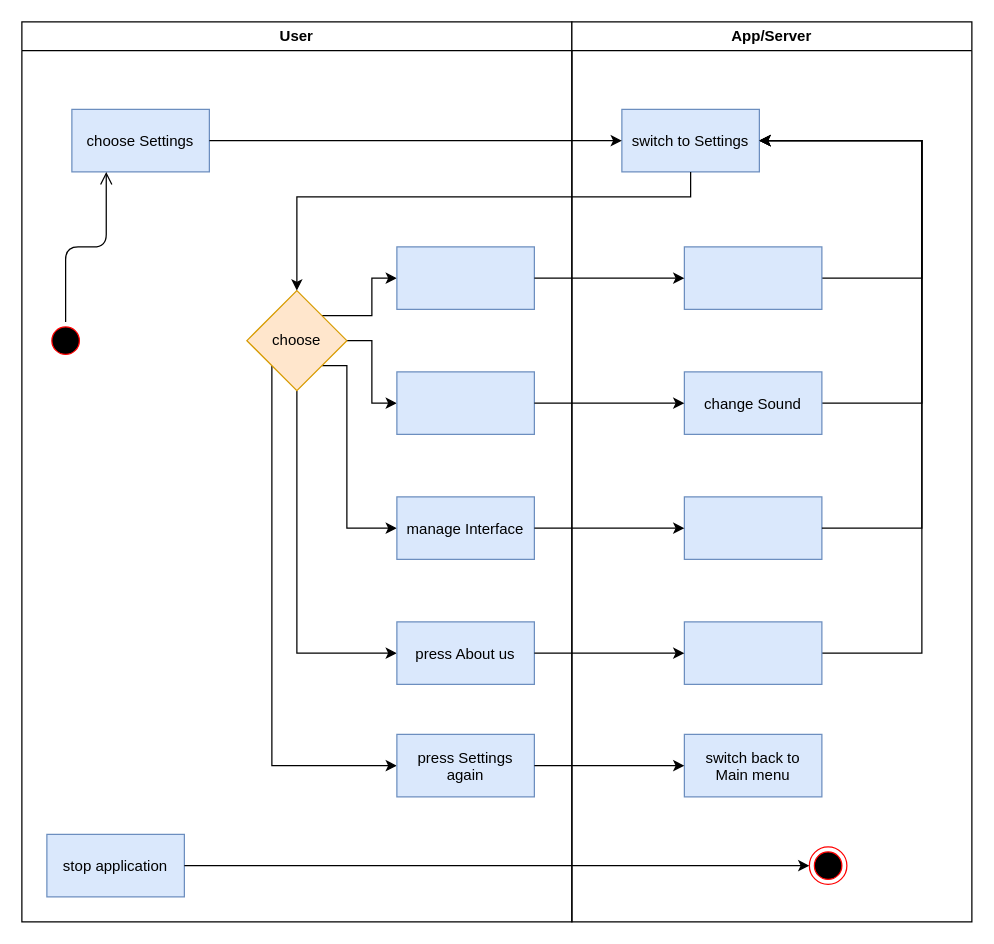
Image size: 994x944. Some labels were removed from this diagram. The centre of each missing label's shape, as x and y in pixels:
change Account- settings: [752,277]
change Interface: [752,527]
manage Account: [465,277]
manage Sound: [465,402]
show About us: [752,652]
